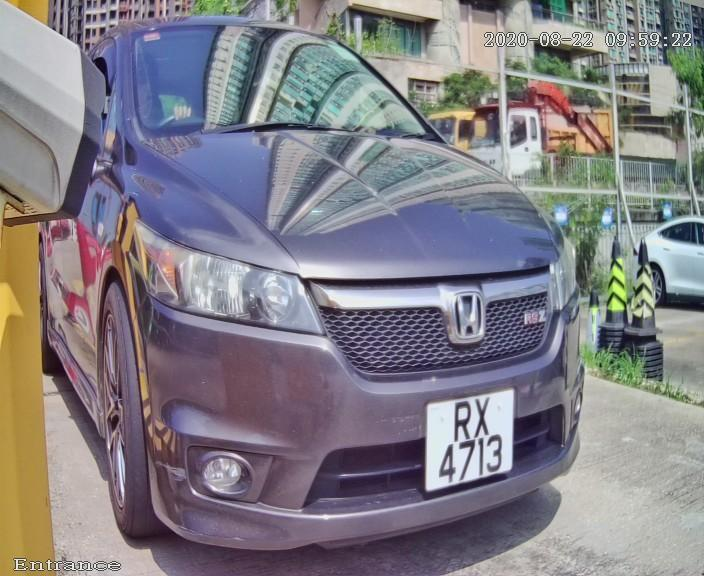License Plate: (415, 376, 522, 507)
